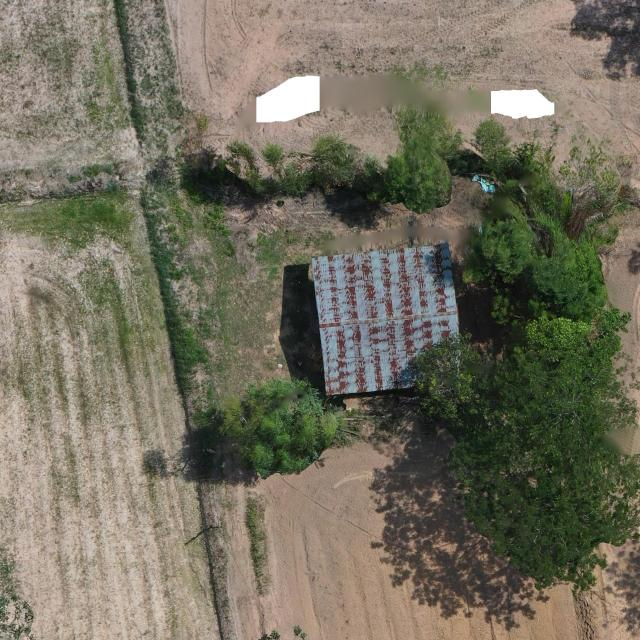Tree: (409, 330, 639, 455), (461, 455, 640, 597), (462, 179, 619, 327), (218, 376, 340, 480), (517, 316, 590, 365), (264, 624, 308, 640)
